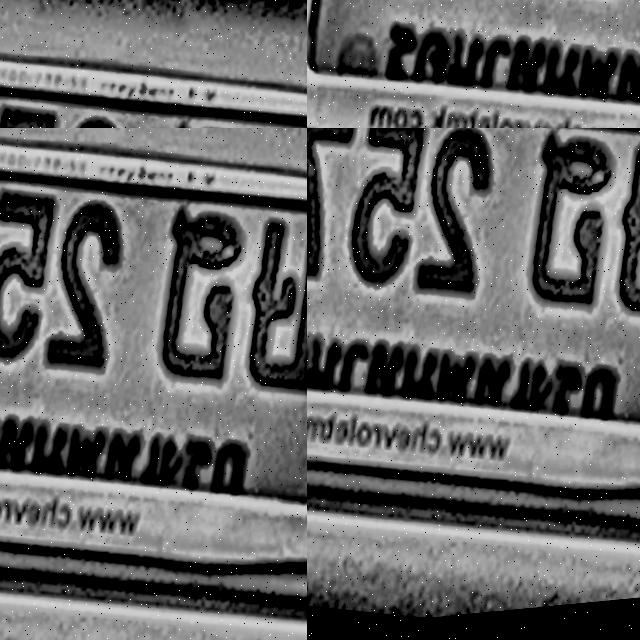license-plate: (307, 128, 640, 563), (259, 0, 307, 107)
